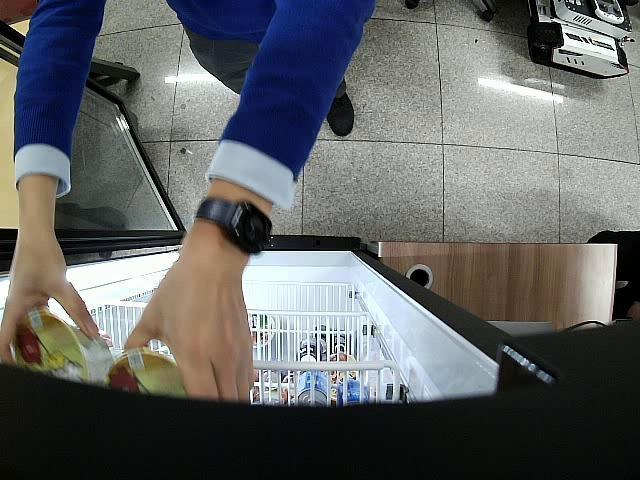04_chapagetti_S: (14, 308, 113, 389), (107, 350, 187, 400)
